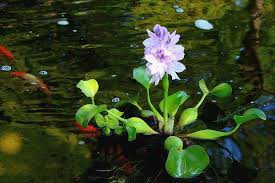water_hyacinth: (69, 24, 268, 178)
